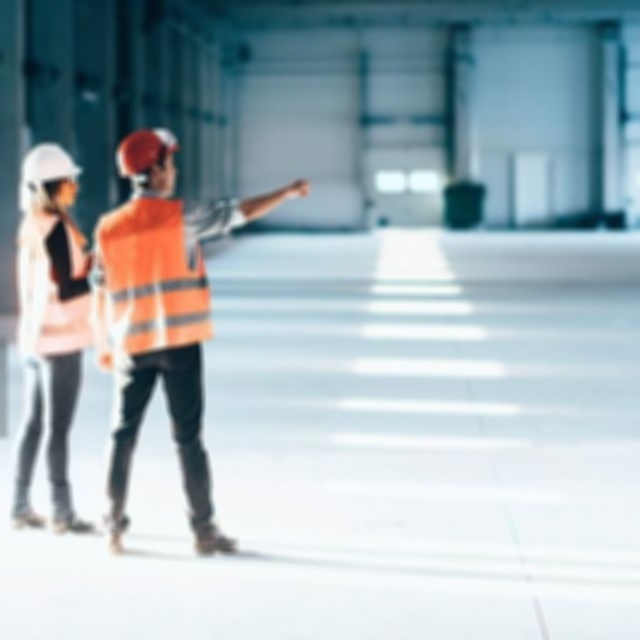Con_Chaleco: (95, 202, 208, 358), (11, 214, 93, 357)
